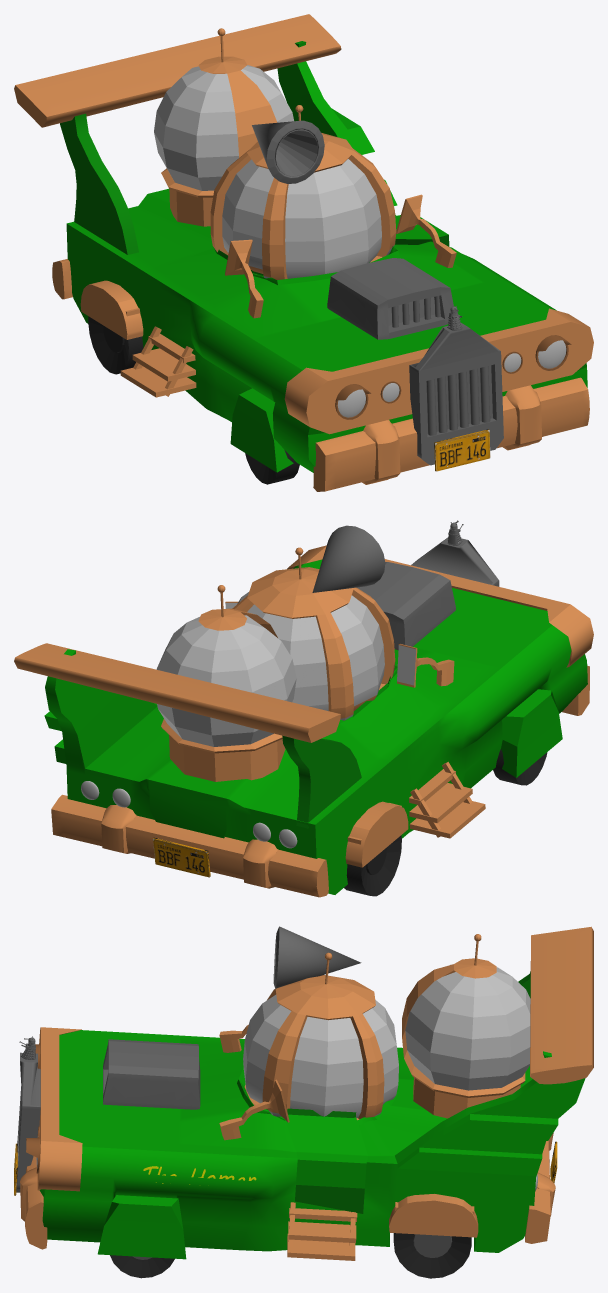
Rendered from the_homer_from_the_simpsons_low-poly.glb.
3 views of the same model, one above another, from view 1: azimuth 30°, elevation 25°; view 2: azimuth 150°, elevation 25°; view 3: azimuth 270°, elevation 25° (orthographic). The views are drawn at different scales.
Visible parts, largest first — view 1: pCube10, pSphere7, pSphere1, pCube4, pCube19, pCube5, pCube9, pCube8, pCube3, pCone1, pCube21, pCylinder19 (+9 smaller); view 2: pCube10, pSphere1, pSphere7, pCube4, pCube16, pCube9, pCube3, pCube19, pCone1, pCube21, pCube8, pCylinder19 (+9 smaller); view 3: pCube10, pSphere7, pSphere1, pCube4, pCube9, pCube19, pCube20, pCylinder18, pCone1, pCube8, pCube16, pCube5 (+6 smaller).
Part boxes in pixels (bbox=[...]): pCube10: bbox=[66, 41, 587, 472]; pSphere7: bbox=[210, 133, 396, 279]; pSphere1: bbox=[154, 56, 293, 226]; pCube4: bbox=[14, 14, 341, 127]; pCube19: bbox=[284, 308, 593, 434]; pCube5: bbox=[313, 377, 589, 491]; pCube9: bbox=[327, 258, 453, 339]; pCube8: bbox=[409, 323, 503, 465]; pCube3: bbox=[60, 113, 138, 254]; pCone1: bbox=[252, 120, 324, 183]; pCube21: bbox=[80, 280, 143, 339]; pCylinder19: bbox=[88, 316, 143, 374]; pCube10: bbox=[44, 559, 587, 894]; pSphere1: bbox=[156, 608, 296, 781]; pSphere7: bbox=[232, 567, 395, 720]; pCube4: bbox=[14, 643, 340, 742]; pCube16: bbox=[51, 794, 328, 897]; pCube9: bbox=[357, 562, 455, 650]; pCube3: bbox=[282, 735, 361, 828]; pCube19: bbox=[287, 545, 593, 667]; pCone1: bbox=[312, 525, 385, 592]; pCube21: bbox=[345, 801, 408, 867]; pCube8: bbox=[411, 537, 499, 586]; pCylinder19: bbox=[344, 835, 401, 896]; pCube10: bbox=[39, 1030, 585, 1259]; pSphere7: bbox=[243, 975, 398, 1120]; pSphere1: bbox=[402, 958, 530, 1118]; pCube4: bbox=[530, 926, 593, 1084]; pCube9: bbox=[103, 1039, 200, 1109]; pCube19: bbox=[37, 1027, 82, 1191]; pCube20: bbox=[389, 1194, 478, 1237]; pCylinder18: bbox=[393, 1233, 471, 1278]; pCone1: bbox=[273, 926, 361, 989]; pCube8: bbox=[16, 1052, 40, 1192]; pCube16: bbox=[525, 1139, 550, 1243]; pCube5: bbox=[25, 1156, 47, 1249].
Size of the model in its own units: 58.35 by 49.43 by 92.59.
28 materials, 1 textured.
